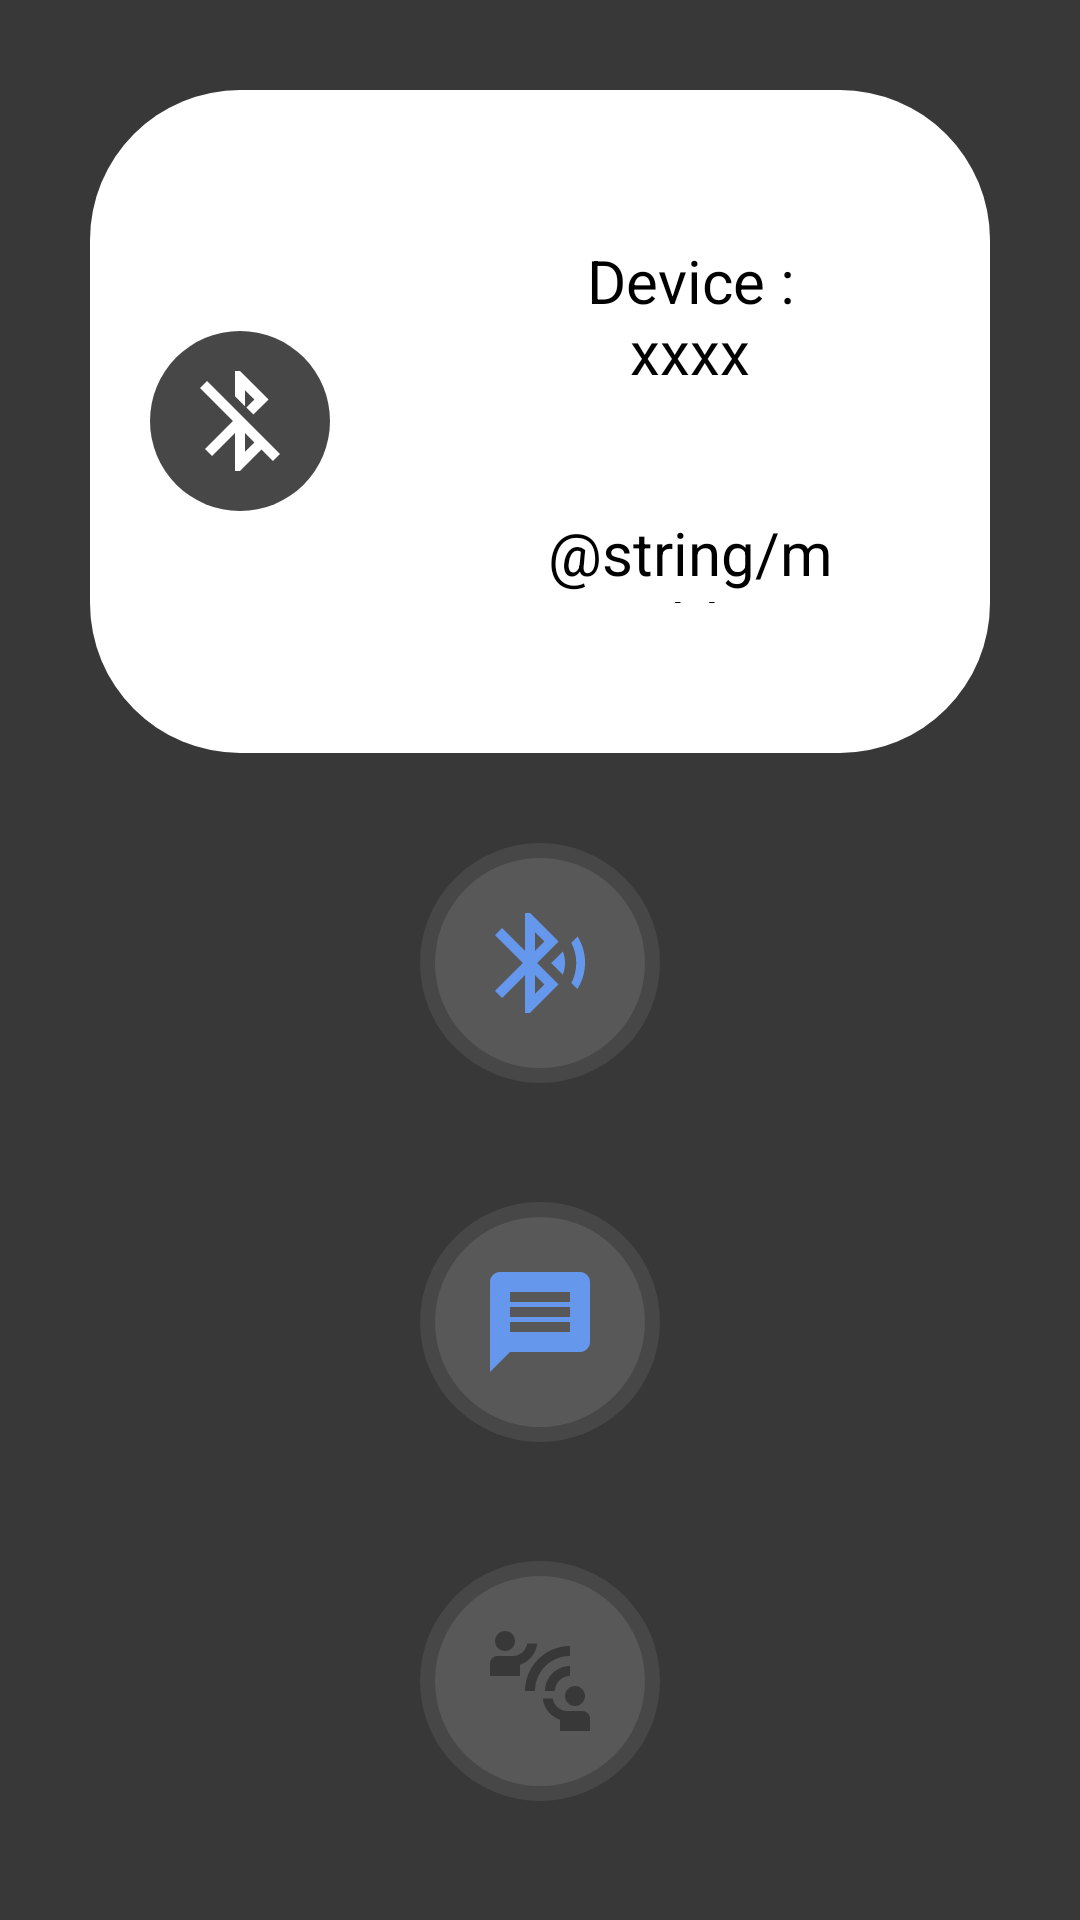

Where icons sit on this 1080 x 1920 app screen, as (x1, y1, x2, y2):
connect without contact: (435, 1576, 645, 1786)
message: (435, 1217, 645, 1427)
